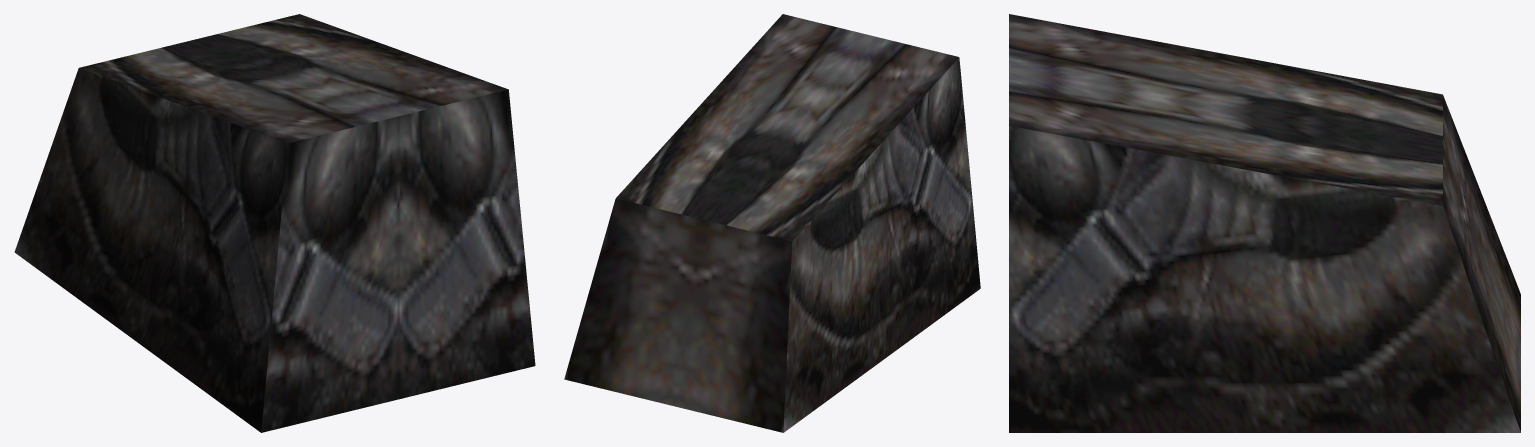
Rendered from arm_seva_boot.obj.
The picture shows the model from 3 angles, left to right: view 1: azimuth 30°, elevation 25°; view 2: azimuth 150°, elevation 25°; view 3: azimuth 270°, elevation 25°; orthographic projection. The views are drawn at different scales.
Parts seen in each view (by area): view 1: arm_jacket_boot_Cube.004; view 2: arm_jacket_boot_Cube.004; view 3: arm_jacket_boot_Cube.004.
Boxes of the visible parts, x1,y1,x2,y2 form: arm_jacket_boot_Cube.004: [14, 14, 535, 432]; arm_jacket_boot_Cube.004: [564, 14, 980, 432]; arm_jacket_boot_Cube.004: [1009, 14, 1520, 432].
Bounding box in the file's own units: 1.28 × 1.27 × 2.
